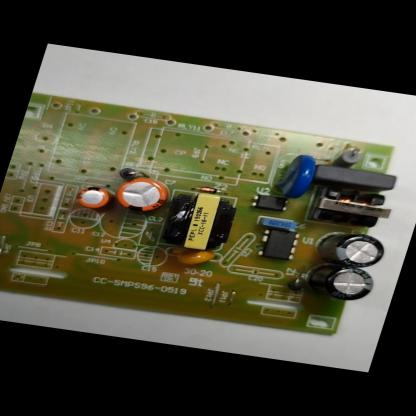Cap1: (105, 168, 177, 221)
Cap2: (66, 182, 118, 216)
Cap3: (306, 226, 393, 273)
Cap4: (292, 258, 387, 305)
MOSFET: (248, 221, 308, 264)
Mov: (264, 149, 326, 204)
Resistor: (328, 141, 368, 171)
Transformer: (154, 184, 244, 258), (304, 180, 402, 232)
